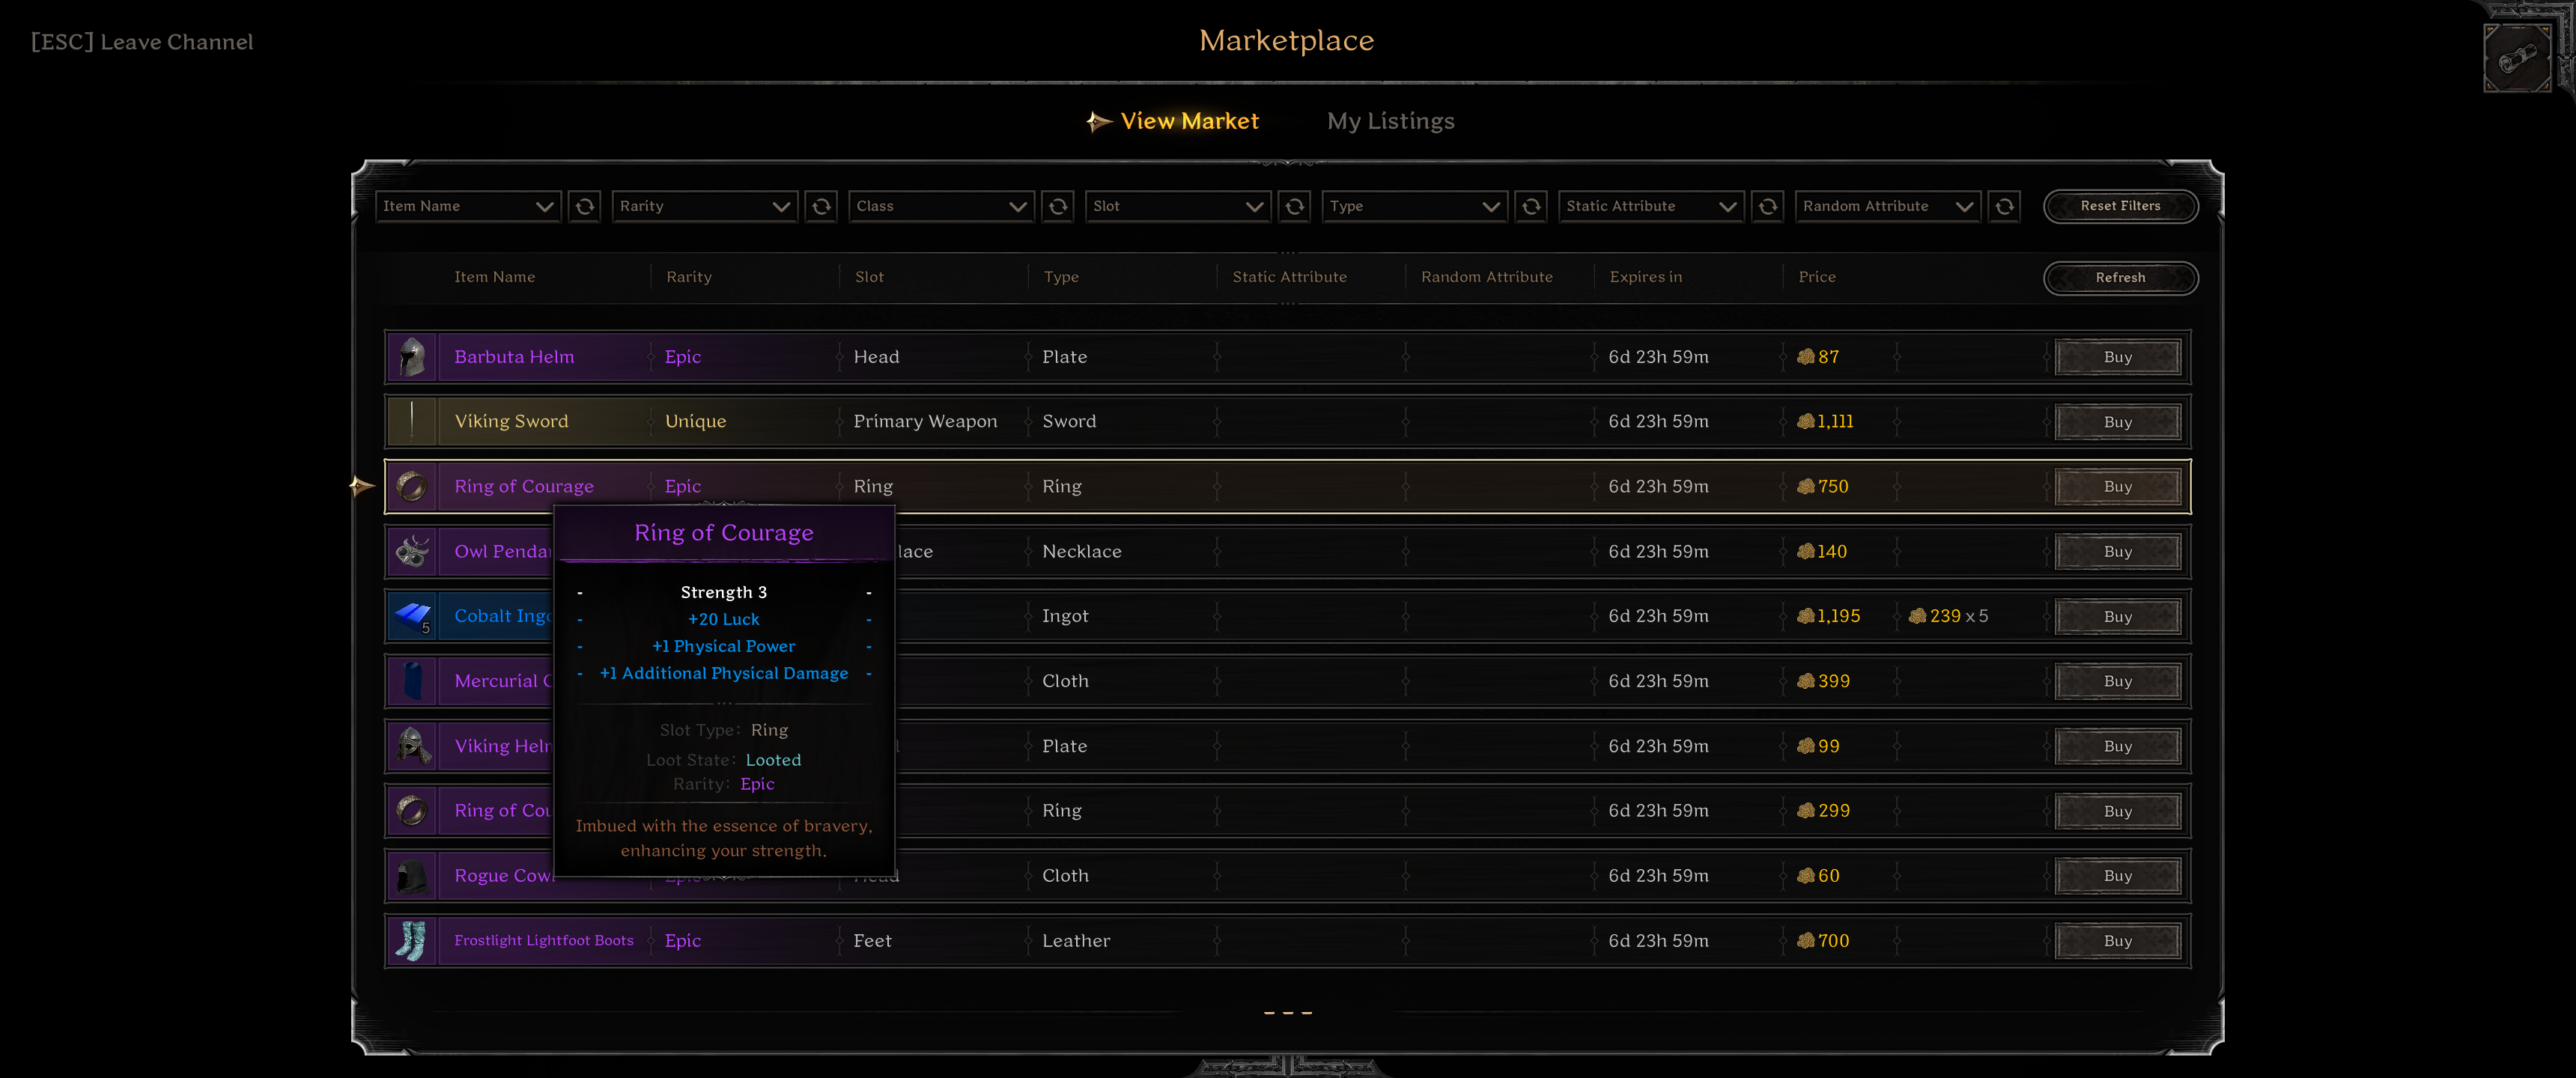Tooltip: (550, 504, 897, 879)
